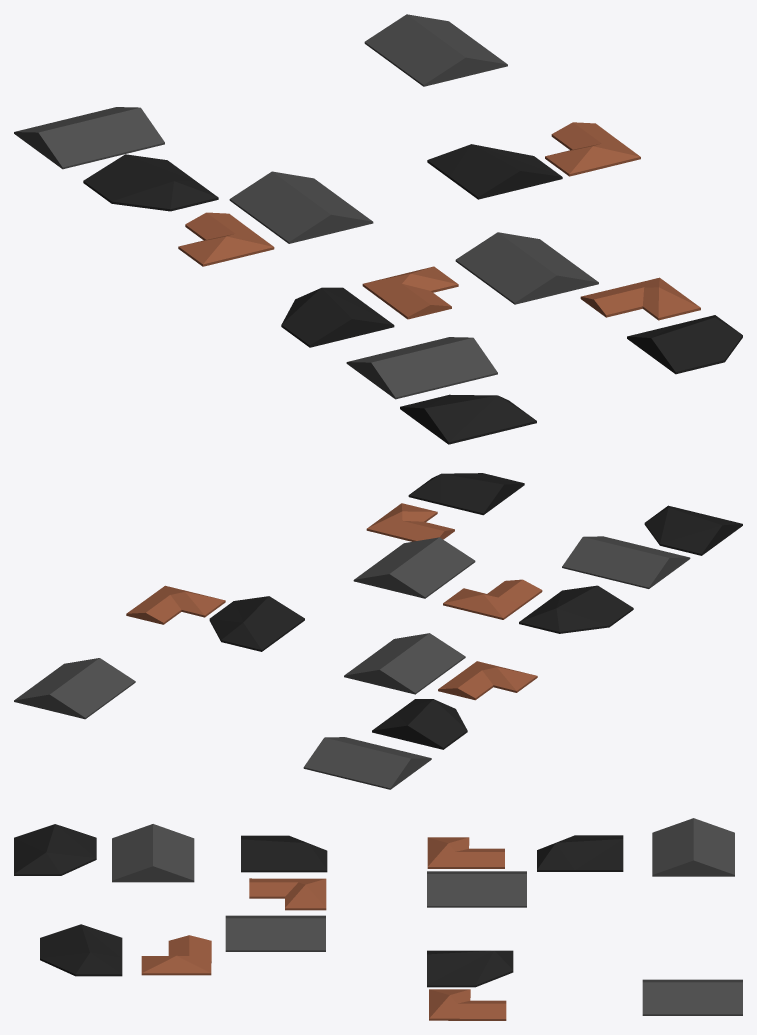
File: roofs.obj
3 views of the same model, one above another, from view 1: azimuth 30°, elevation 25°; view 2: azimuth 150°, elevation 25°; view 3: azimuth 270°, elevation 25° (orthographic). The views are drawn at different scales.
Visible parts, largest first — view 1: user, cube242, cube210, cube241, cube239, cube240, cube230, cube229, cube228, cube227, cube231; view 2: user, cube242, cube210, cube241, cube239, cube240, cube227, cube229, cube231, cube230, cube228; view 3: user, cube239, cube240, cube241, cube210, cube242, cube231, cube228, cube229, cube227, cube230.
Boxes of the visible parts, x1,y1,x2,y2 form: user: [178, 122, 700, 320]; cube242: [229, 171, 373, 243]; cube210: [455, 232, 598, 304]; cube241: [364, 14, 507, 86]; cube239: [346, 337, 497, 399]; cube240: [14, 107, 164, 169]; cube230: [83, 154, 218, 211]; cube229: [427, 144, 562, 199]; cube228: [400, 394, 536, 444]; cube227: [281, 287, 394, 347]; cube231: [627, 315, 742, 374]; user: [126, 503, 542, 700]; cube242: [344, 633, 465, 694]; cube210: [353, 537, 475, 598]; cube241: [14, 658, 135, 719]; cube239: [562, 536, 690, 588]; cube240: [303, 737, 431, 789]; cube227: [519, 585, 633, 633]; cube229: [209, 596, 304, 651]; cube231: [408, 473, 524, 515]; cube230: [372, 699, 467, 749]; cube228: [644, 505, 742, 555]; user: [141, 837, 506, 1020]; cube239: [112, 824, 194, 882]; cube240: [652, 818, 734, 876]; cube241: [642, 979, 742, 1015]; cube210: [225, 915, 325, 951]; cube242: [427, 871, 526, 907]; cube231: [40, 924, 122, 976]; cube228: [14, 824, 96, 875]; cube229: [427, 950, 513, 987]; cube227: [241, 835, 327, 872]; cube230: [537, 835, 623, 871].
Size of the model in its own units: 2904 by 133 by 4841.
3 materials, 3 textured.
